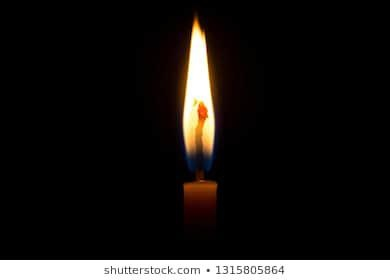fire: (180, 14, 214, 166)
